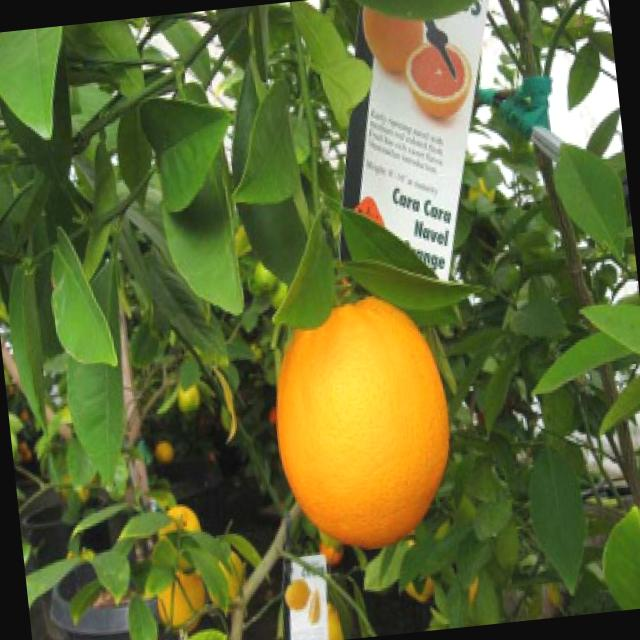orange: (249, 276, 470, 561)
